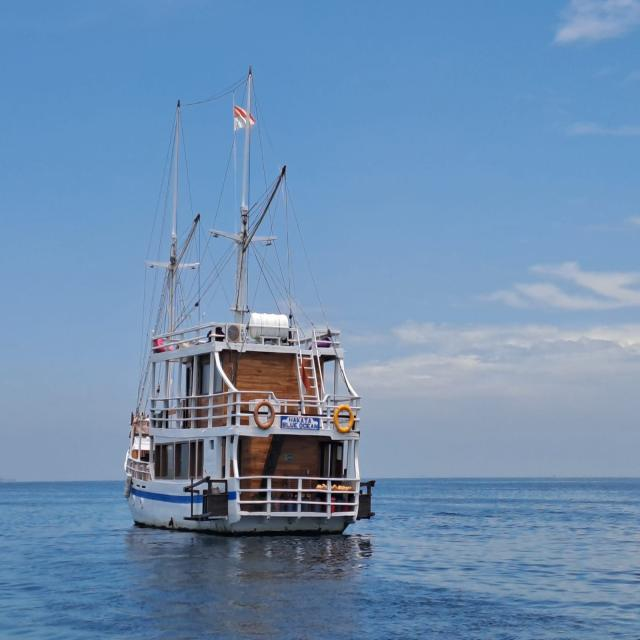Fishing Boat: (105, 51, 425, 590)
